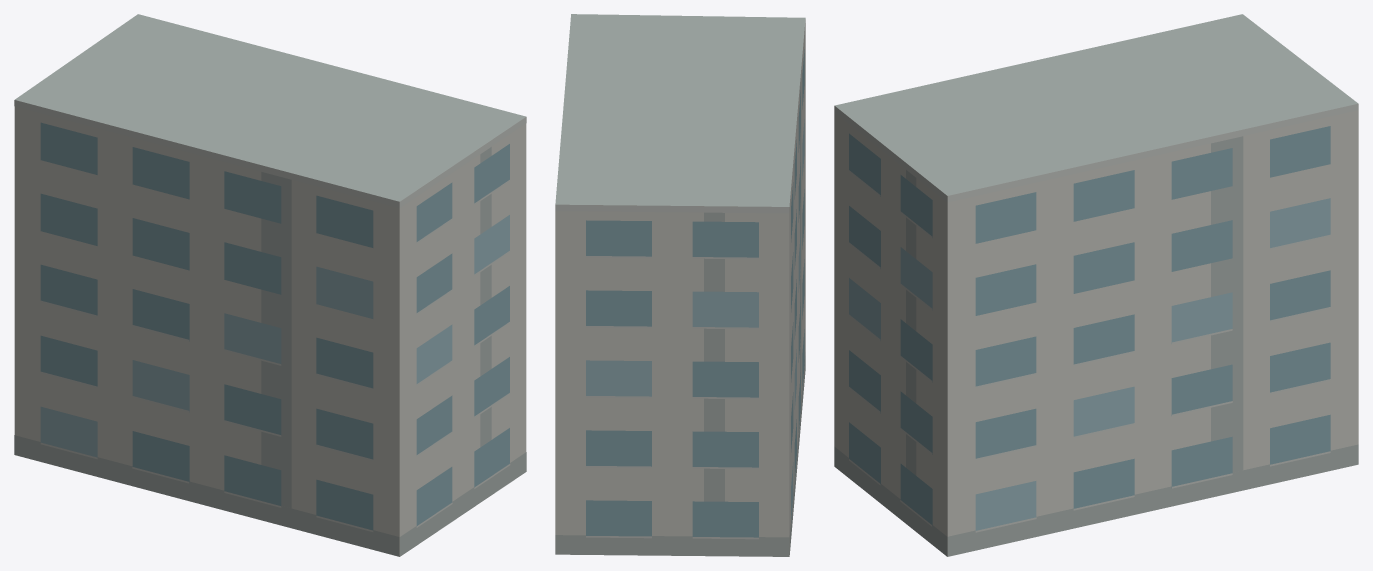
The model's file is survey-upis-32893321.glb.
3 views of the same model, side by side, from view 1: azimuth 30°, elevation 25°; view 2: azimuth 150°, elevation 25°; view 3: azimuth 270°, elevation 25° (orthographic). The views are drawn at different scales.
Visible parts, largest first — view 1: survey-upis-32893321.tmp; view 2: survey-upis-32893321.tmp; view 3: survey-upis-32893321.tmp.
Part boxes in pixels (left/top/right/bottom): survey-upis-32893321.tmp: left=14, top=14, right=526, bottom=556; survey-upis-32893321.tmp: left=555, top=14, right=805, bottom=556; survey-upis-32893321.tmp: left=834, top=14, right=1358, bottom=556.
Size of the model in its own units: 14.17 by 13.1 by 17.25.
